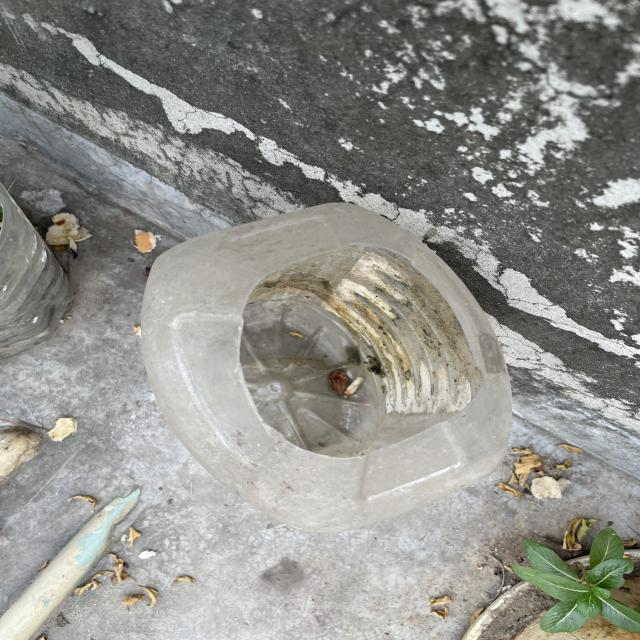Breeding Place: (147, 198, 522, 533)
